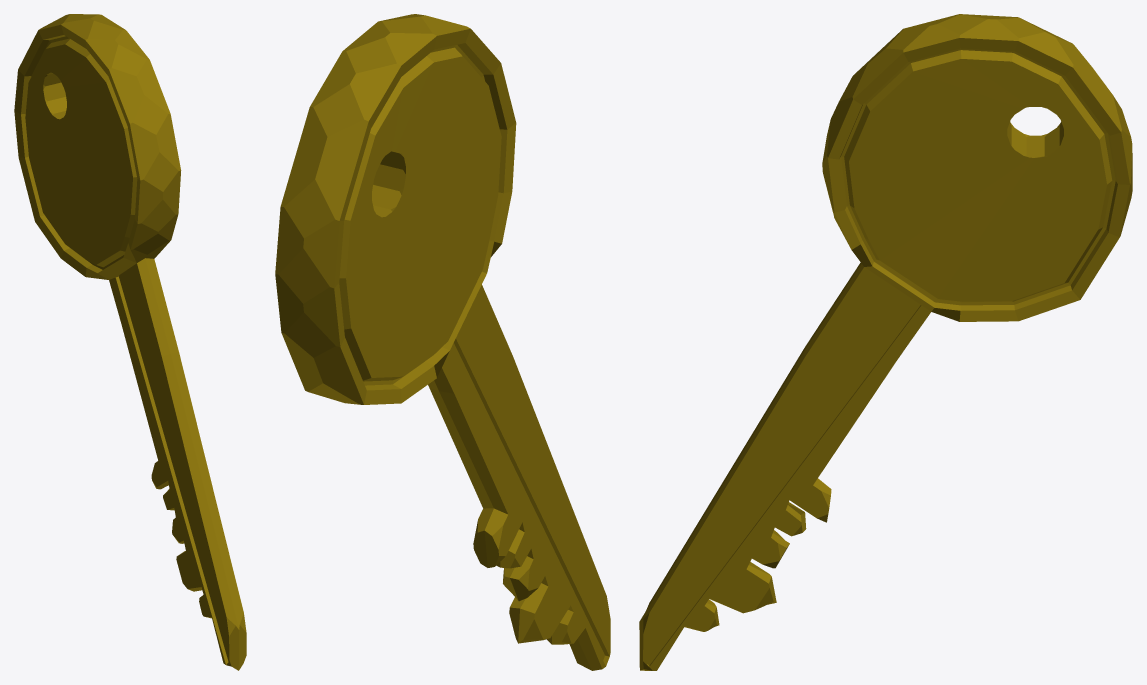
File: ChaveFinal.fbx
3 renders of one model, left to right at view 1: azimuth 30°, elevation 25°; view 2: azimuth 150°, elevation 25°; view 3: azimuth 270°, elevation 25°, orthographic. The views are drawn at different scales.
Visible parts, largest first — view 1: Circle; view 2: Circle; view 3: Circle.
Boxes of the visible parts, left/top/right/bottom form: Circle: left=14, top=14, right=246, bottom=670; Circle: left=275, top=14, right=610, bottom=670; Circle: left=639, top=14, right=1132, bottom=670.
Size of the model in its own units: 32.9 by 418 by 286.
